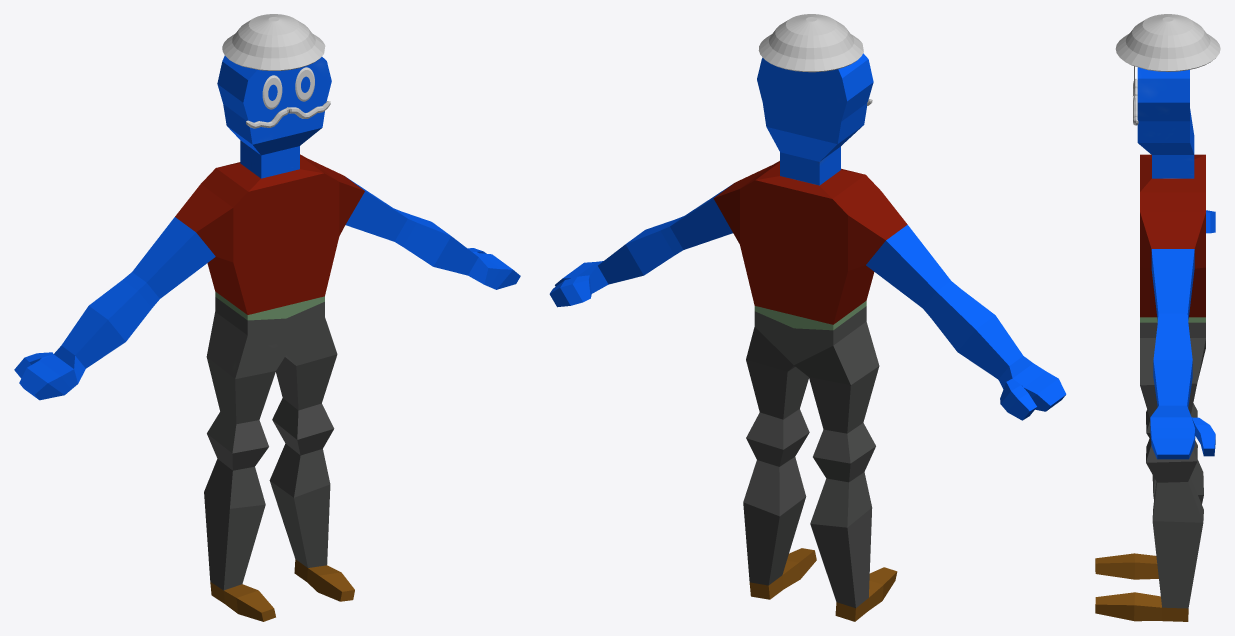
The model's file is bilu.fbx.
3 renders of one model, left to right at view 1: azimuth 30°, elevation 25°; view 2: azimuth 150°, elevation 25°; view 3: azimuth 270°, elevation 25°, orthographic. The views are drawn at different scales.
Visible parts, largest first — view 1: Cube, Circle.001, Circle; view 2: Cube, Circle.001; view 3: Cube, Circle.001, Circle.002.
Boxes of the visible parts, x1=… form: Cube: x1=14, y1=55, x2=520, y2=621; Circle.001: x1=222, y1=14, x2=325, y2=70; Circle: x1=262, y1=67, x2=314, y2=109; Cube: x1=549, y1=53, x2=1066, y2=621; Circle.001: x1=758, y1=14, x2=863, y2=72; Cube: x1=1095, y1=67, x2=1215, y2=621; Circle.001: x1=1115, y1=14, x2=1220, y2=71; Circle.002: x1=1132, y1=79, x2=1138, y2=125.
Size of the model in its own units: 917 by 1029 by 202.
